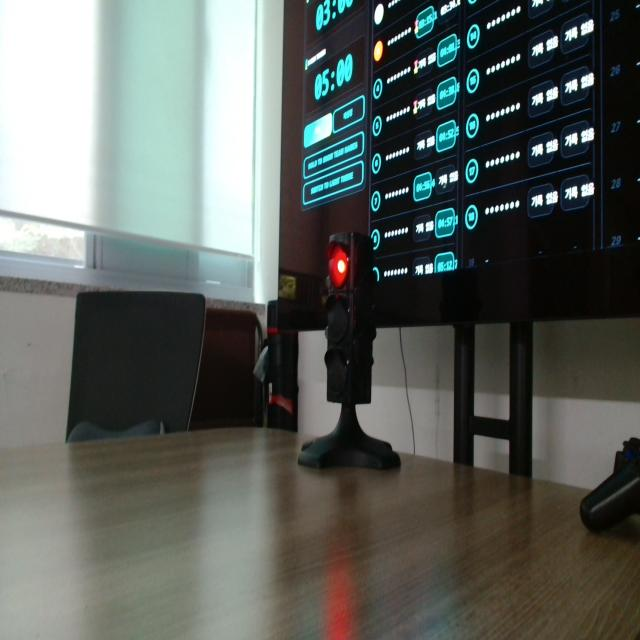red_light: (329, 245, 348, 287)
